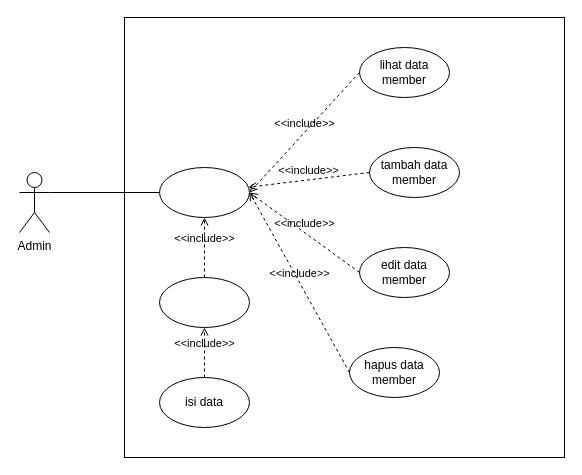
This 582x475 diagram has some shape labels left out. Here are the shapes that lost their labels. From the top down, the centre of each, then its label:
At (204,192): "Login".
At (204,302): "register".
